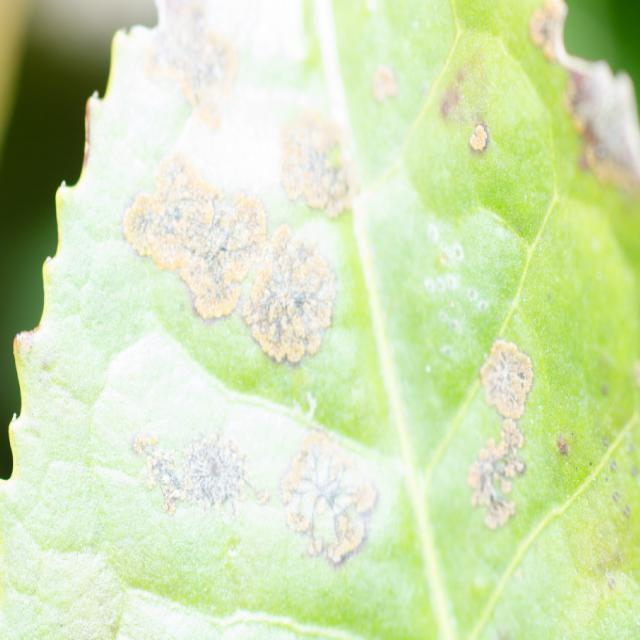Tea red rust: (137, 10, 592, 591)
